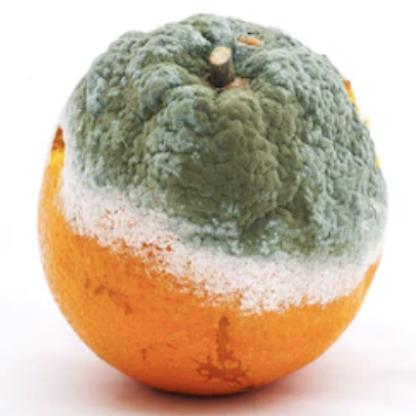rotten: (37, 15, 386, 396)
